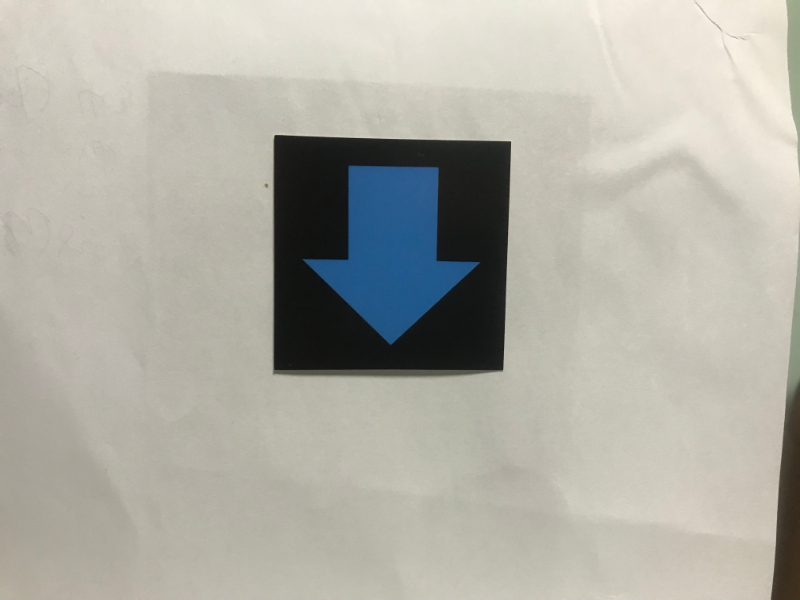LA-4: (281, 145, 497, 363)
